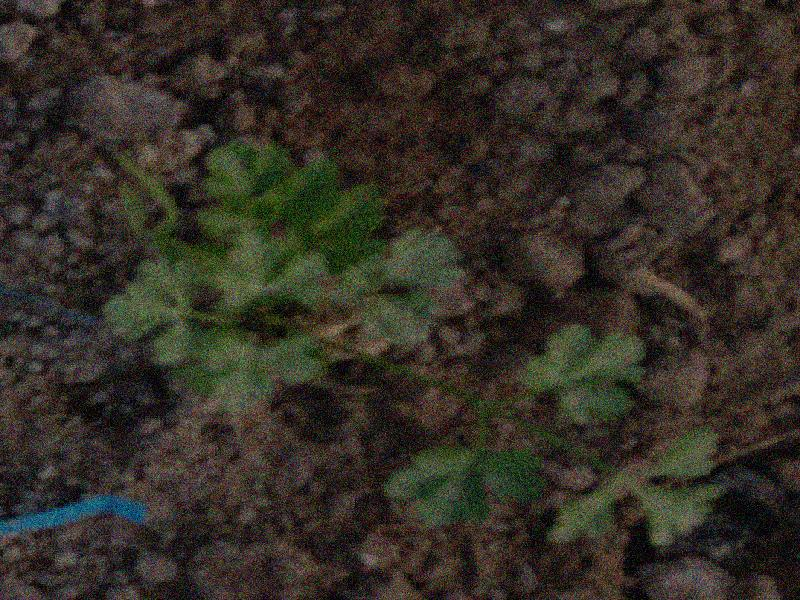radish: (0, 0, 744, 600)
